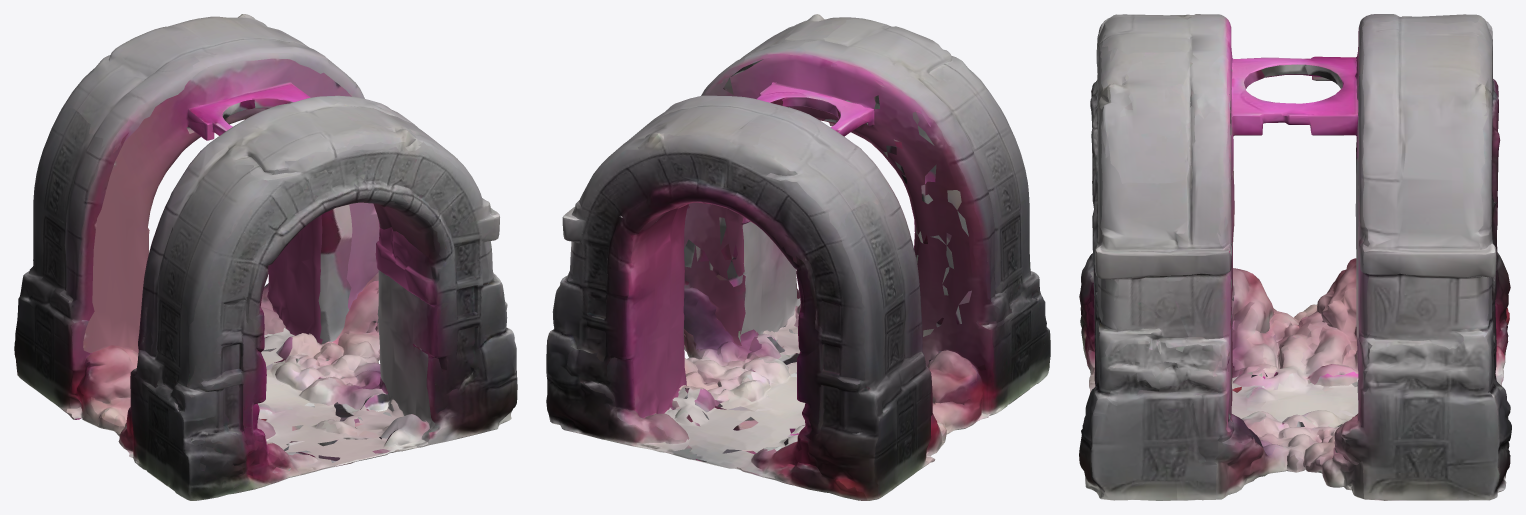
Rendered from lower-root-arch-generated-2026-04-26T02-38-26-370Z.medium.glb.
3 views of the same model, side by side, from view 1: azimuth 30°, elevation 25°; view 2: azimuth 150°, elevation 25°; view 3: azimuth 270°, elevation 25° (orthographic). The views are drawn at different scales.
Visible parts, largest first — view 1: temp_mesh.ply; view 2: temp_mesh.ply; view 3: temp_mesh.ply.
Boxes of the visible parts, left/top/right/bottom form: temp_mesh.ply: left=14, top=14, right=517, bottom=500; temp_mesh.ply: left=546, top=14, right=1050, bottom=500; temp_mesh.ply: left=1079, top=14, right=1511, bottom=500.
Bounding box in the file's own units: 1.98 × 1.86 × 1.95.
1 material, 1 textured.
